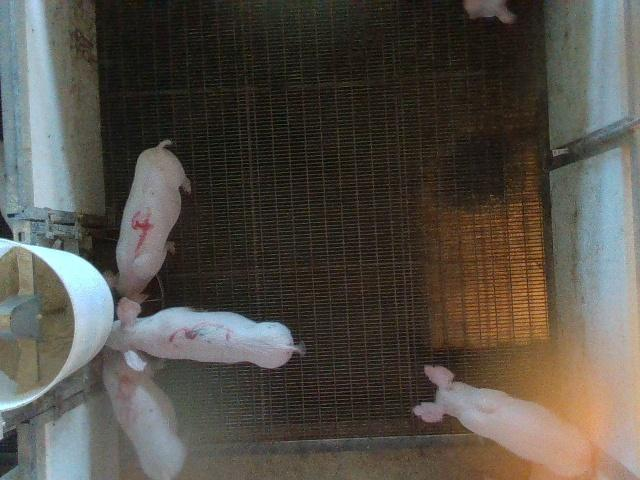pig-3: (106, 298, 300, 371)
pig-4: (116, 140, 191, 298)
pig-5: (104, 350, 186, 479)
